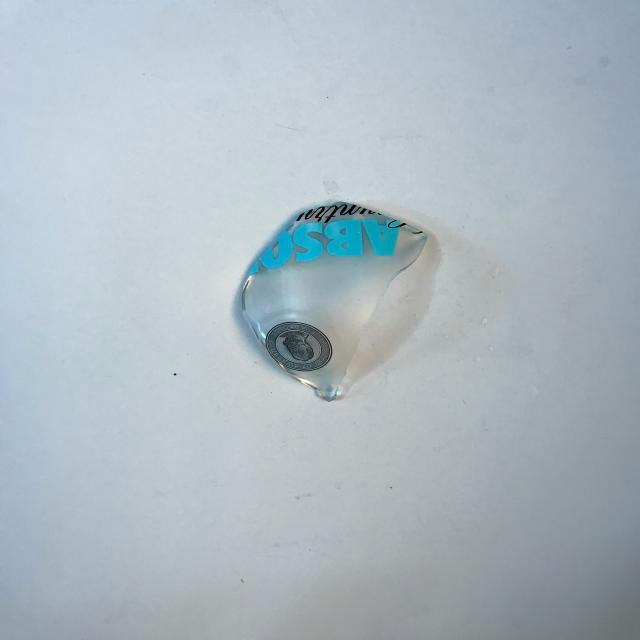glass: (225, 172, 458, 413)
